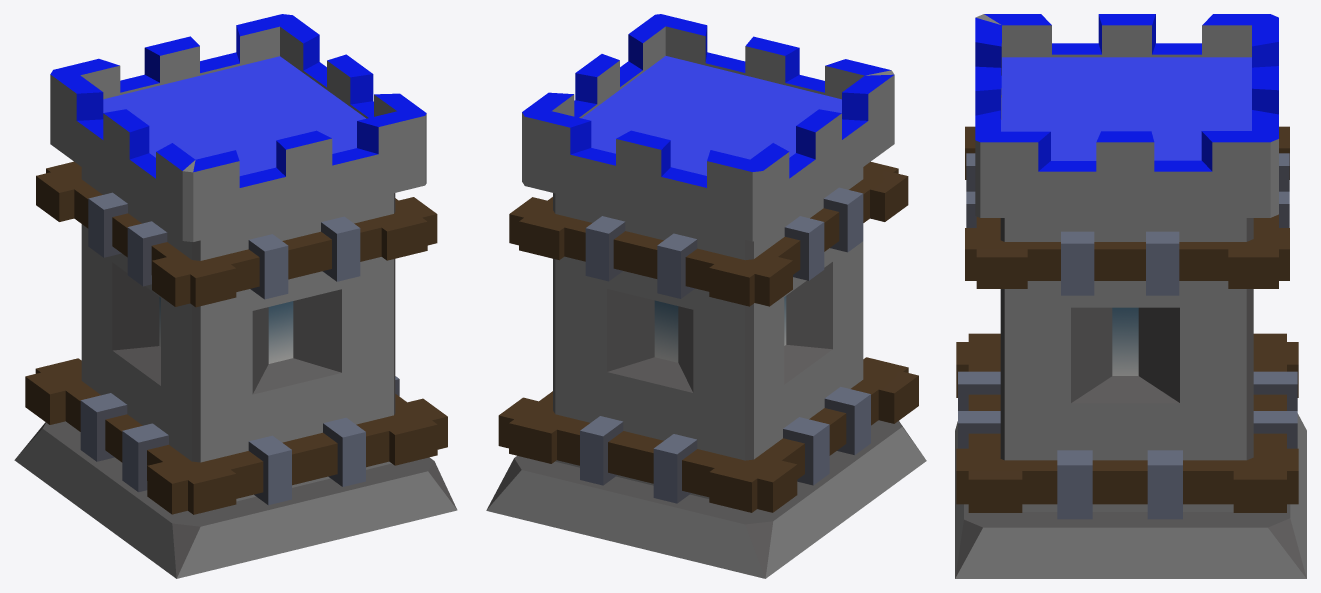
Rendered from Tower7 1.fbx.
3 renders of one model, left to right at view 1: azimuth 30°, elevation 25°; view 2: azimuth 150°, elevation 25°; view 3: azimuth 270°, elevation 25°, orthographic. The views are drawn at different scales.
Visible parts, largest first — view 1: Tower7; view 2: Tower7; view 3: Tower7.
Part boxes in pixels (bbox=[...]): Tower7: bbox=[14, 14, 457, 578]; Tower7: bbox=[486, 14, 926, 578]; Tower7: bbox=[955, 14, 1306, 578].
Size of the model in its own units: 331 by 443 by 331.
